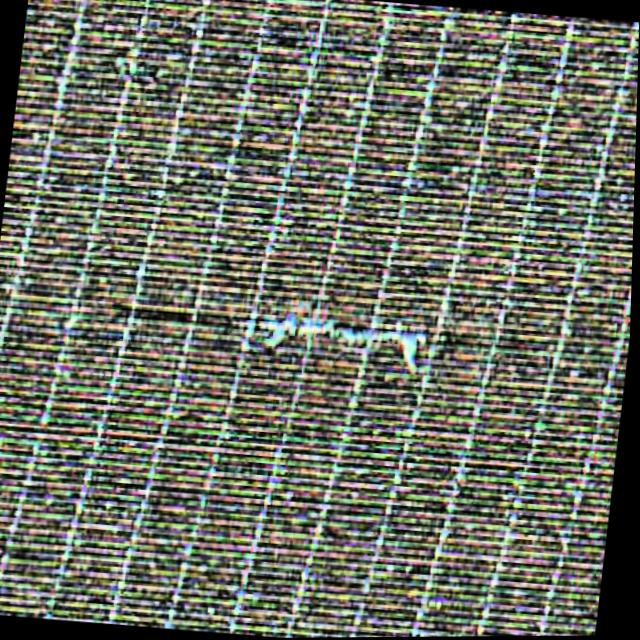Stitch: (241, 263, 449, 384)
